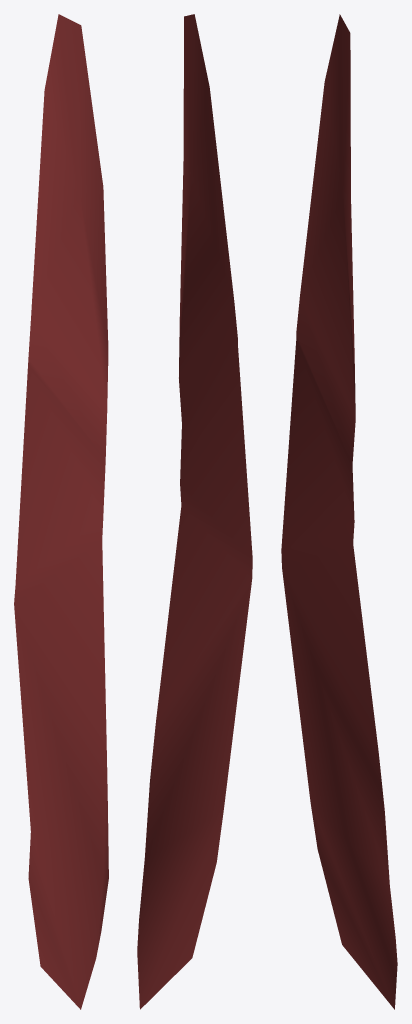
The model's file is flexor-digitorum-longus-or.glb.
3 renders of one model, left to right at view 1: azimuth 30°, elevation 25°; view 2: azimuth 150°, elevation 25°; view 3: azimuth 330°, elevation 25°, orthographic. The views are drawn at different scales.
Parts seen in each view (by area): view 1: Flexor digitorum longus.or; view 2: Flexor digitorum longus.or; view 3: Flexor digitorum longus.or.
Part boxes in pixels (box(x1,y1,x2,y2)): Flexor digitorum longus.or: box(14, 14, 108, 1009); Flexor digitorum longus.or: box(137, 14, 252, 1009); Flexor digitorum longus.or: box(281, 14, 397, 1009).
Size of the model in its own units: 0.0153 by 0.1449 by 0.00882.
